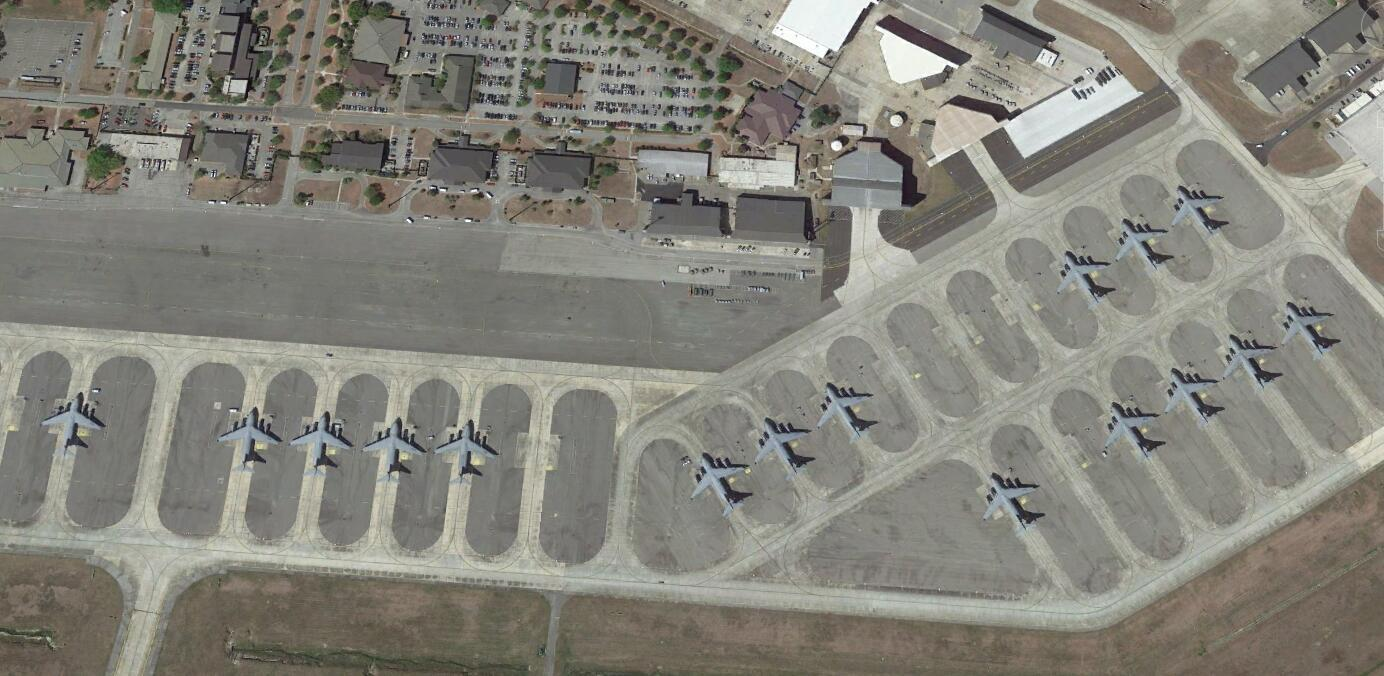A3: (37, 393, 108, 454), (814, 382, 877, 448), (433, 418, 499, 480), (290, 410, 353, 473), (215, 407, 283, 465), (362, 415, 425, 476), (689, 451, 749, 515), (750, 415, 808, 476), (1167, 183, 1233, 235), (1281, 299, 1339, 358), (980, 473, 1037, 533), (1053, 249, 1114, 305), (1103, 401, 1162, 458), (1164, 364, 1220, 423), (1221, 333, 1277, 388), (1114, 215, 1165, 271)
